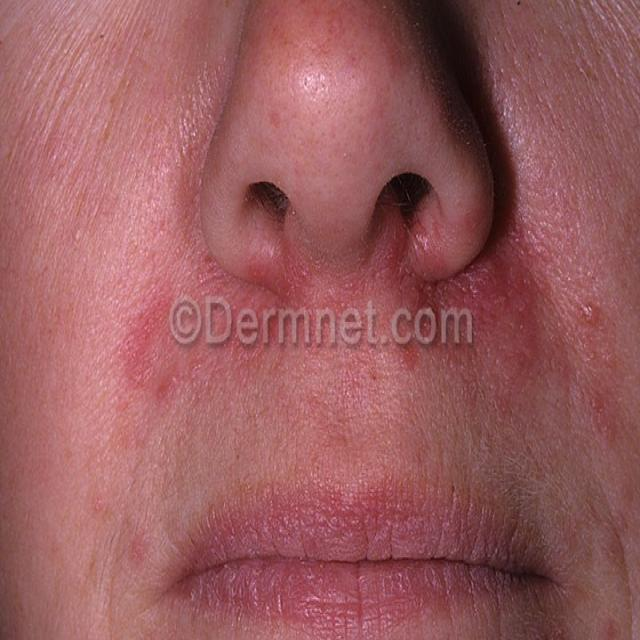dry: (6, 1, 170, 224), (548, 417, 640, 639), (96, 415, 148, 637)
